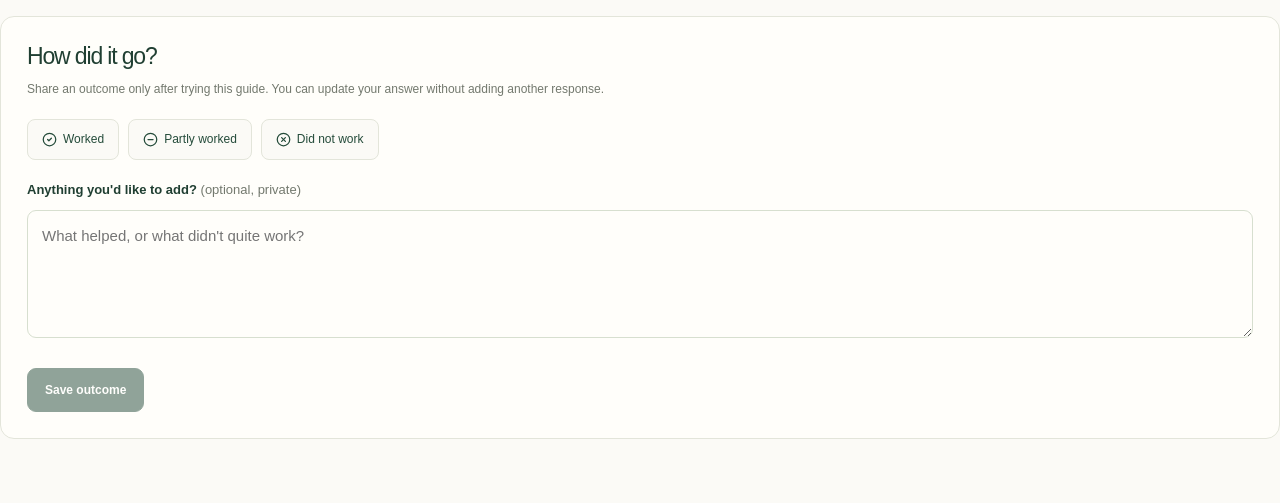
Test: version-linked feedback › saves the selected outcome and optional private comment against the exact revision
The width and height of the screenshot is (1280, 503).
Expected: the button "Save outcome" is disabled, [27,368,144,412]
Click the button "Partly worked".
click(190, 140)  # box [128,119,252,160]
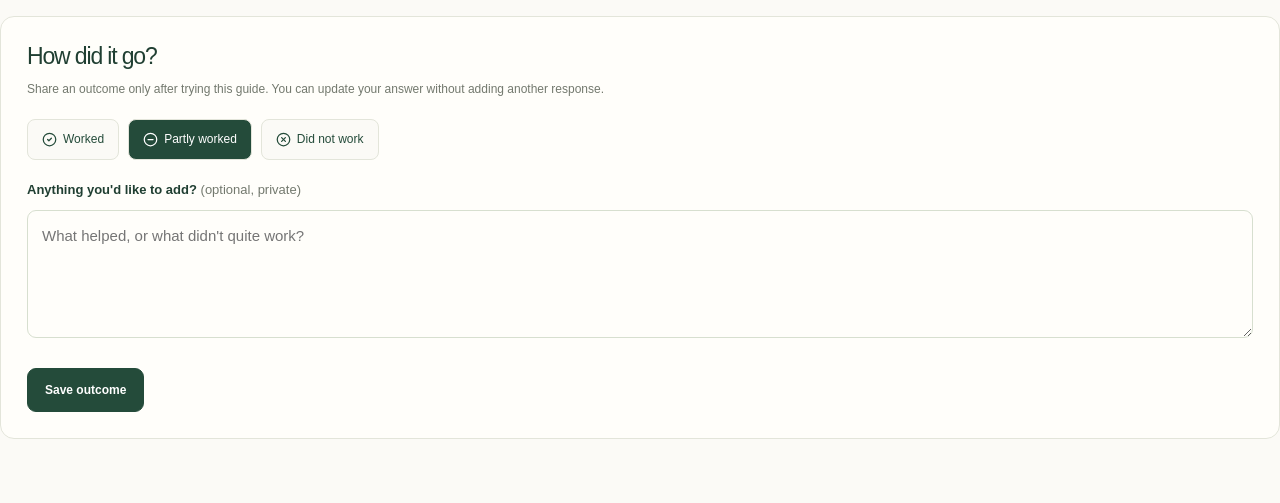
Type "The wobble improved." into the text box labelled "Anything you'd like to add? (optional, private)".
click(640, 274); type("The wobble improved.")  # box [27,210,1253,338]
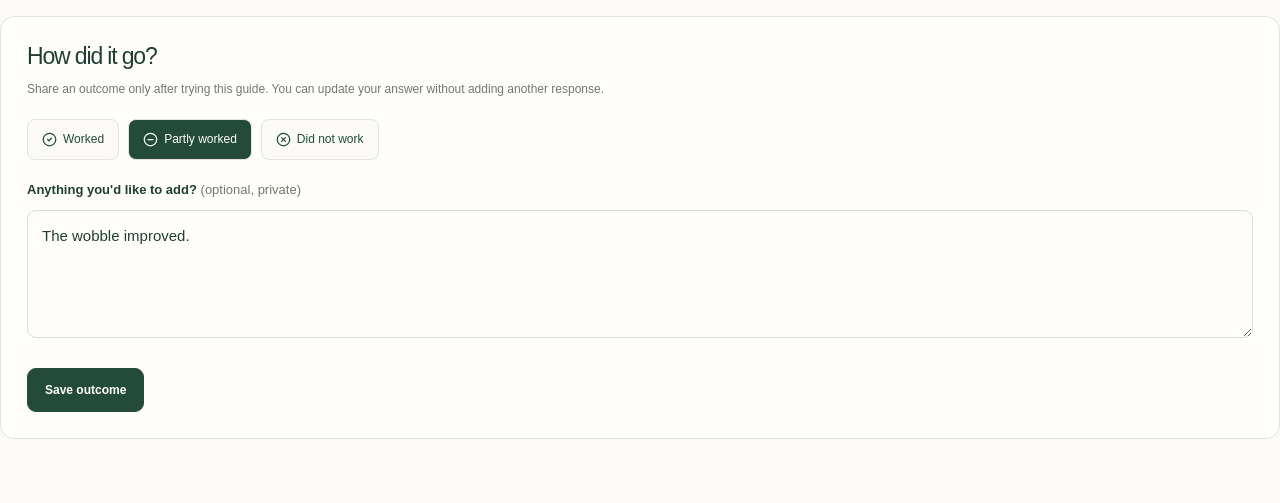
Click the button "Save outcome".
click(86, 390)  # box [27,368,144,412]
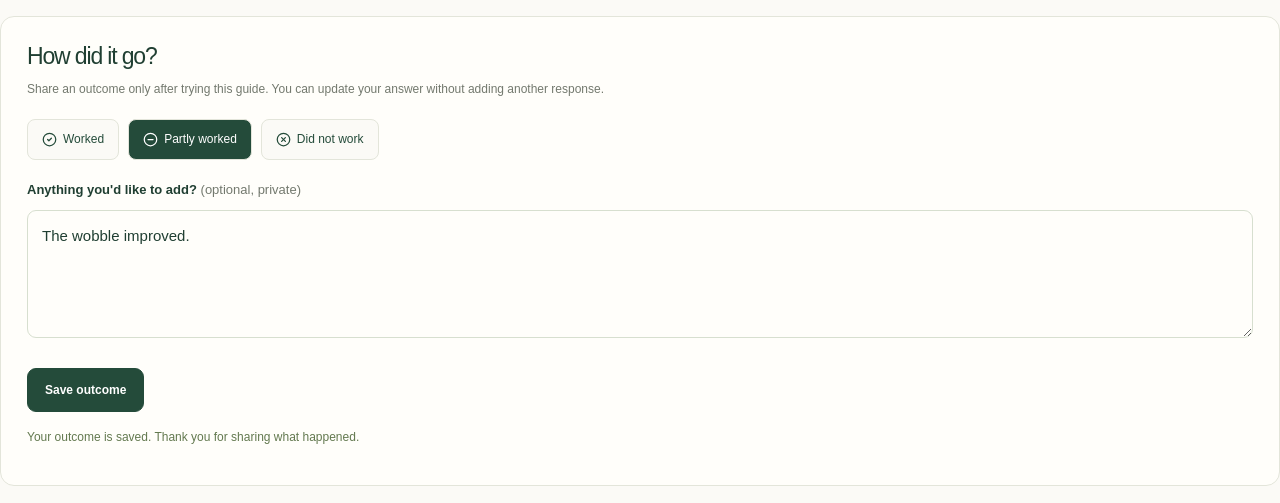
Expected: the message shows "Your outcome is saved", [27,430,359,444]
